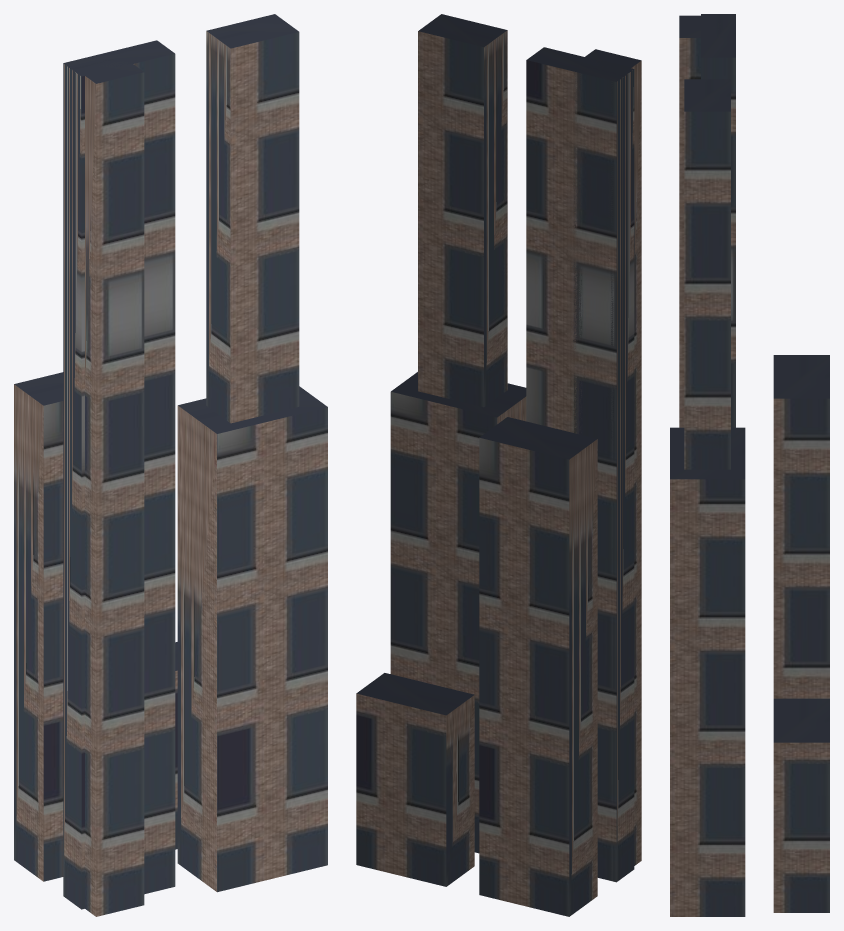
Rendered from city_block_12345_6_13.glb.
3 views of the same model, side by side, from view 1: azimuth 30°, elevation 25°; view 2: azimuth 150°, elevation 25°; view 3: azimuth 270°, elevation 25° (orthographic). The views are drawn at different scales.
Parts seen in each view (by area): view 1: block_13; view 2: block_13; view 3: block_13.
Part boxes in pixels (x1=…): block_13: x1=14, y1=14, x2=327, y2=916; block_13: x1=356, y1=14, x2=641, y2=916; block_13: x1=670, y1=14, x2=829, y2=916.
Bounding box in the file's own units: 4.05 × 14 × 2.55.
4 materials, 4 textured.
